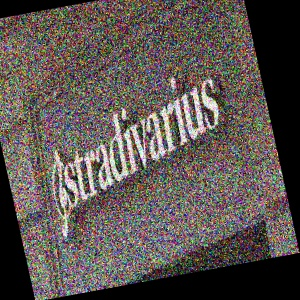stradivarius: (44, 96, 278, 195)
